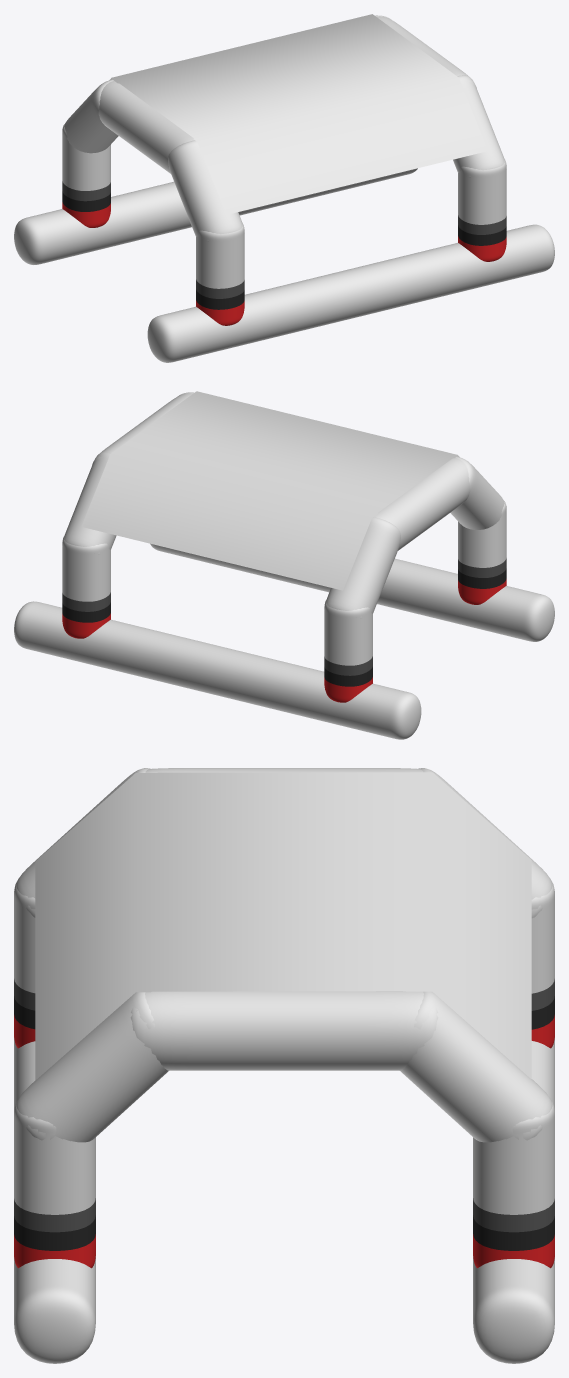
The model's file is pneumatic_tunnel_gate.fbx.
3 views of the same model, one above another, from view 1: azimuth 30°, elevation 25°; view 2: azimuth 150°, elevation 25°; view 3: azimuth 270°, elevation 25° (orthographic). The views are drawn at different scales.
Parts seen in each view (by area): view 1: дваойные ворота, крыша, крышa 2; view 2: дваойные ворота, крыша, крышa 2; view 3: крыша, дваойные ворота.
Part boxes in pixels (left/top/right/bottom): дваойные ворота: left=14, top=15, right=554, bottom=362; крыша: left=111, top=14, right=487, bottom=213; крышa 2: left=109, top=78, right=486, bottom=214; дваойные ворота: left=14, top=392, right=554, bottom=739; крыша: left=82, top=391, right=459, bottom=589; крышa 2: left=82, top=455, right=458, bottom=590; крыша: left=35, top=772, right=531, bottom=1079; дваойные ворота: left=14, top=768, right=554, bottom=1363.
Bounding box in the file's own units: 2047 × 937 × 1414.
